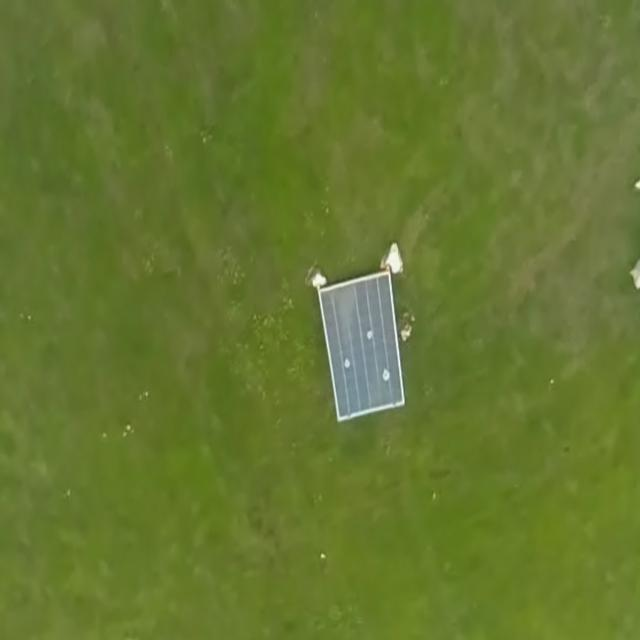Bird-drop: (362, 324, 378, 342), (380, 366, 392, 388), (340, 354, 354, 370)
